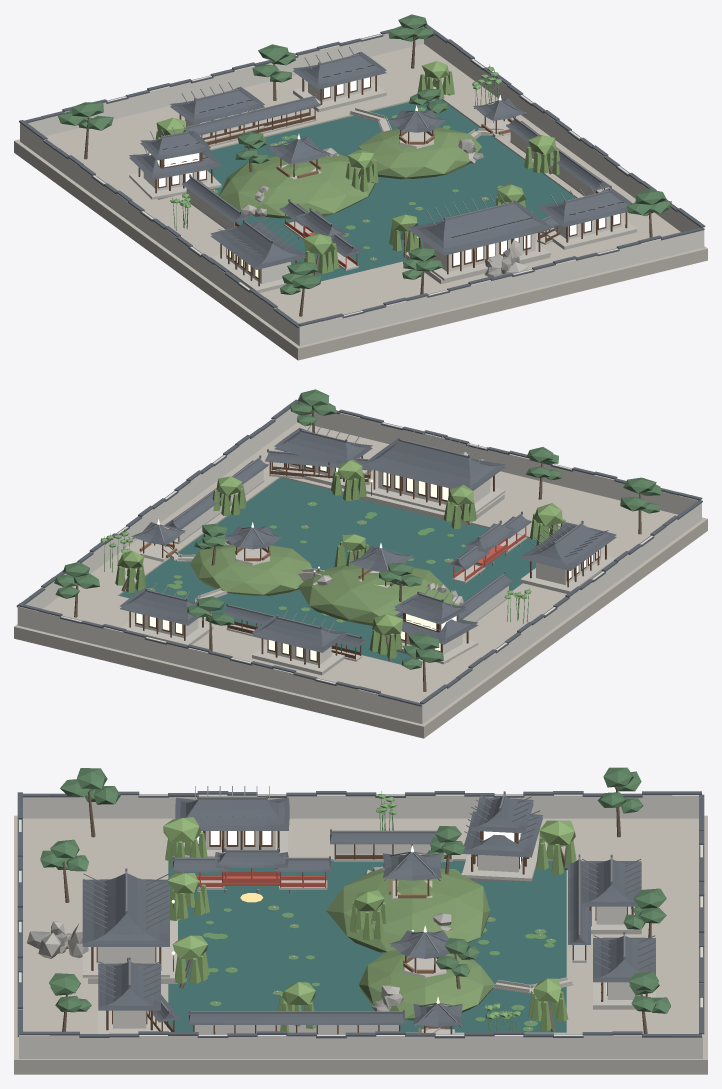
The model's file is humble_admin_garden.glb.
3 views of the same model, one above another, from view 1: azimuth 30°, elevation 25°; view 2: azimuth 150°, elevation 25°; view 3: azimuth 270°, elevation 25° (orthographic). The views are drawn at different scales.
Visible parts, largest first — view 1: HumbleAdmin_courtyard, HumbleAdmin_dark_tile, HumbleAdmin_white_wall, HumbleAdmin_water, HumbleAdmin_grass, HumbleAdmin_stone_light, HumbleAdmin_pine, HumbleAdmin_willow, HumbleAdmin_tile_ridge, HumbleAdmin_dark_wood, HumbleAdmin_emissive_win, HumbleAdmin_taihu_rock (+2 smaller); view 2: HumbleAdmin_courtyard, HumbleAdmin_white_wall, HumbleAdmin_dark_tile, HumbleAdmin_water, HumbleAdmin_grass, HumbleAdmin_stone_light, HumbleAdmin_willow, HumbleAdmin_pine, HumbleAdmin_tile_ridge, HumbleAdmin_dark_wood, HumbleAdmin_emissive_win, HumbleAdmin_bark (+3 smaller); view 3: HumbleAdmin_courtyard, HumbleAdmin_dark_tile, HumbleAdmin_white_wall, HumbleAdmin_water, HumbleAdmin_grass, HumbleAdmin_willow, HumbleAdmin_pine, HumbleAdmin_stone_light, HumbleAdmin_tile_ridge, HumbleAdmin_dark_wood, HumbleAdmin_taihu_rock, HumbleAdmin_vermilion (+5 smaller).
Part boxes in pixels (x1=…): HumbleAdmin_courtyard: x1=14, y1=44, x2=707, y2=360; HumbleAdmin_dark_tile: x1=19, y1=24, x2=705, y2=328; HumbleAdmin_white_wall: x1=20, y1=26, x2=704, y2=345; HumbleAdmin_water: x1=207, y1=98, x2=576, y2=281; HumbleAdmin_grass: x1=219, y1=127, x2=481, y2=218; HumbleAdmin_stone_light: x1=129, y1=81, x2=636, y2=292; HumbleAdmin_pine: x1=57, y1=14, x2=671, y2=294; HumbleAdmin_willow: x1=155, y1=61, x2=559, y2=274; HumbleAdmin_tile_ridge: x1=144, y1=46, x2=624, y2=255; HumbleAdmin_dark_wood: x1=138, y1=75, x2=627, y2=286; HumbleAdmin_emissive_win: x1=149, y1=77, x2=619, y2=277; HumbleAdmin_taihu_rock: x1=241, y1=138, x2=528, y2=276; HumbleAdmin_courtyard: x1=14, y1=422, x2=707, y2=738; HumbleAdmin_white_wall: x1=17, y1=403, x2=701, y2=723; HumbleAdmin_dark_tile: x1=16, y1=399, x2=702, y2=706; HumbleAdmin_water: x1=119, y1=477, x2=536, y2=664; HumbleAdmin_grass: x1=190, y1=544, x2=458, y2=625; HumbleAdmin_stone_light: x1=121, y1=463, x2=615, y2=675; HumbleAdmin_willow: x1=115, y1=459, x2=565, y2=658; HumbleAdmin_pine: x1=54, y1=389, x2=661, y2=669; HumbleAdmin_tile_ridge: x1=131, y1=423, x2=608, y2=640; HumbleAdmin_dark_wood: x1=129, y1=451, x2=606, y2=667; HumbleAdmin_emissive_win: x1=136, y1=465, x2=599, y2=660; HumbleAdmin_bark: x1=74, y1=409, x2=641, y2=691; HumbleAdmin_courtyard: x1=14, y1=815, x2=707, y2=1074; HumbleAdmin_dark_tile: x1=17, y1=791, x2=704, y2=1038; HumbleAdmin_white_wall: x1=19, y1=794, x2=702, y2=1058; HumbleAdmin_water: x1=168, y1=860, x2=566, y2=1032; HumbleAdmin_grass: x1=326, y1=868, x2=494, y2=1020; HumbleAdmin_willow: x1=163, y1=817, x2=576, y2=1032; HumbleAdmin_pine: x1=40, y1=767, x2=670, y2=1013; HumbleAdmin_stone_light: x1=82, y1=831, x2=655, y2=1034; HumbleAdmin_tile_ridge: x1=83, y1=786, x2=655, y2=1027; HumbleAdmin_dark_wood: x1=91, y1=831, x2=647, y2=1034; HumbleAdmin_taihu_rock: x1=38, y1=864, x2=452, y2=1010; HumbleAdmin_vermilion: x1=177, y1=868, x2=326, y2=887.
Bounding box in the file's own units: 90 × 15.11 × 108.
